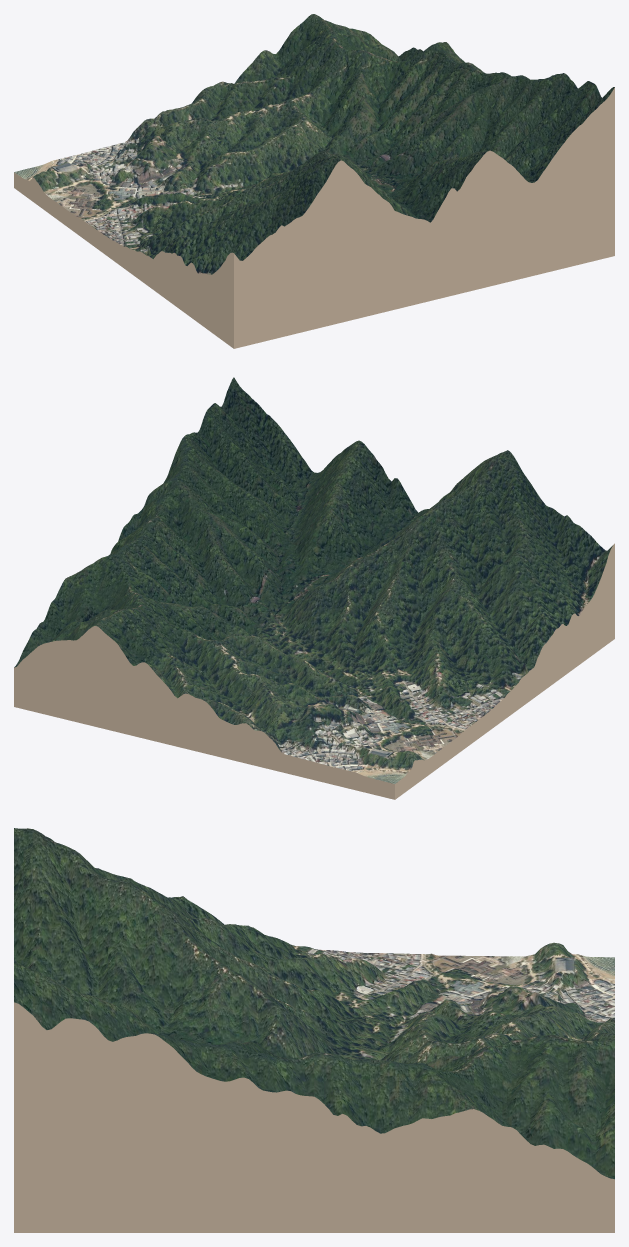
Rendered from facility-001.glb.
3 renders of one model, top to bottom at view 1: azimuth 30°, elevation 25°; view 2: azimuth 150°, elevation 25°; view 3: azimuth 270°, elevation 25°, orthographic. The views are drawn at different scales.
Bounding box in the file's own units: 0.6 × 0.2541 × 0.6.
Materials: 17 (16 with a texture image).
